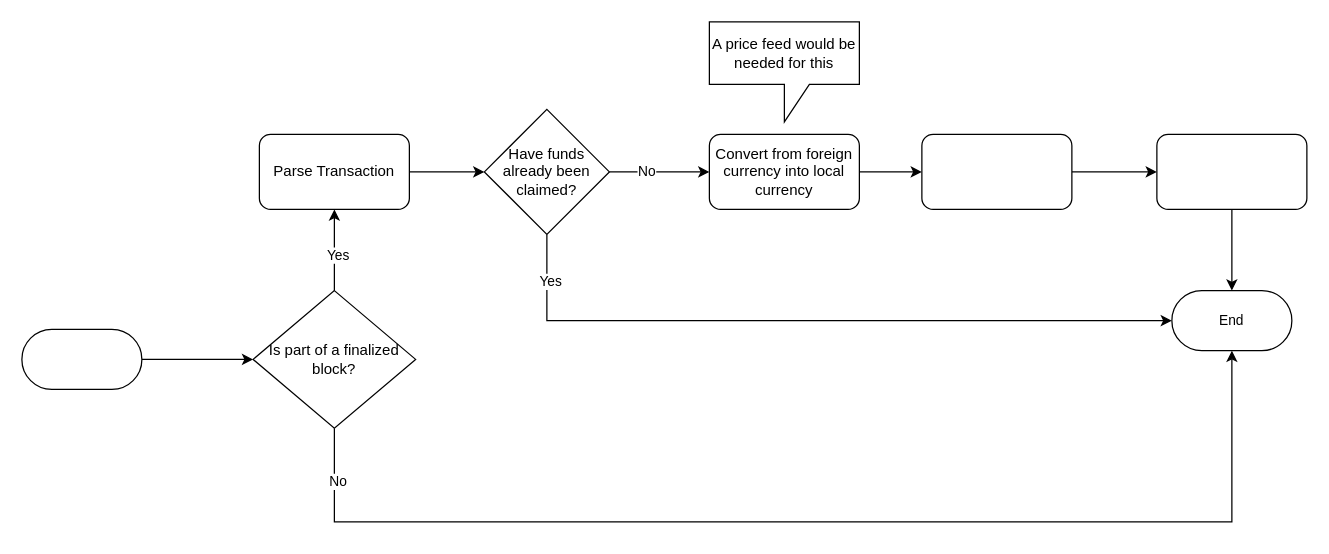
Image size: 1329x554. Some labels were removed from this diagram. Each missing label, with the box of its shape:
Deposit into recipient account: (921, 133, 1072, 209)
Reward Submitter: (1156, 133, 1307, 209)
Transaction: (21, 328, 142, 389)
